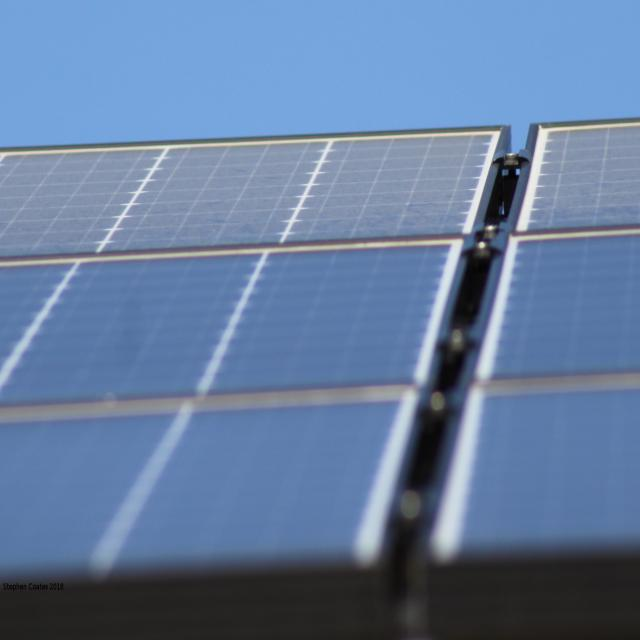dust-solar-panel: (0, 121, 640, 262)
